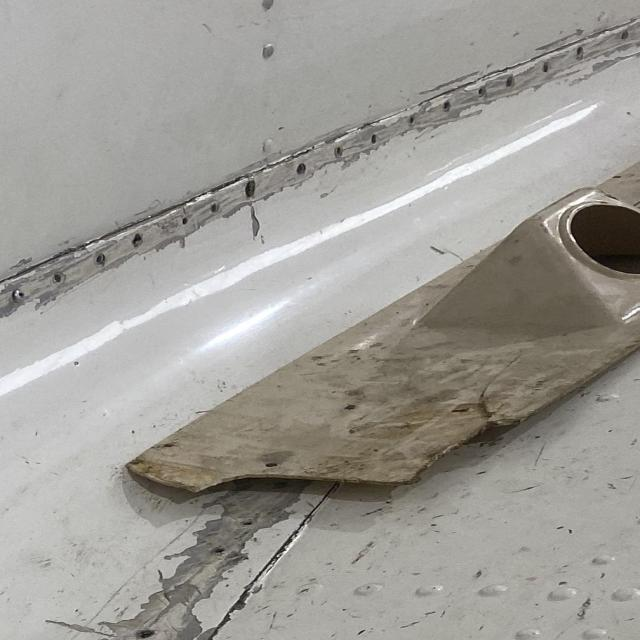Crack: (153, 128, 347, 224)
Missing-head: (240, 513, 262, 533), (90, 250, 111, 270), (50, 270, 67, 285), (135, 626, 156, 638)
Scratch: (0, 9, 640, 322), (94, 484, 303, 640)
